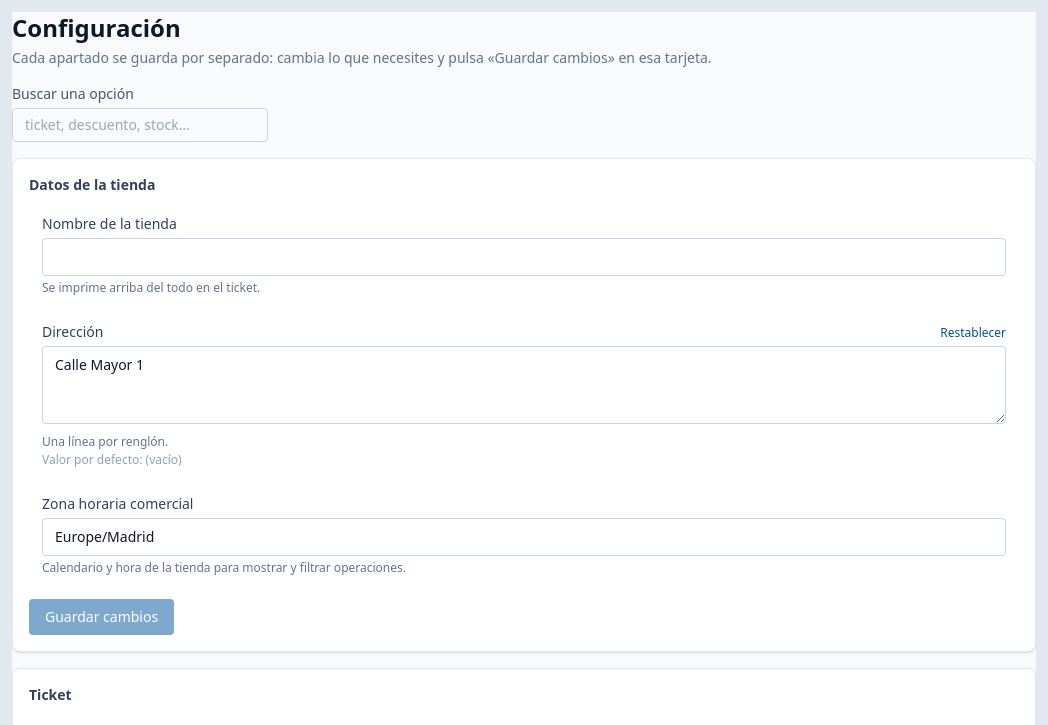
Test: SettingsPage — opciones del registro › restores a field to its default value, and only offers it when it differs
The image size is (1048, 725).
Click the button with aria-label "Restablecer Dirección" at (973, 333), box [940, 325, 1006, 341]
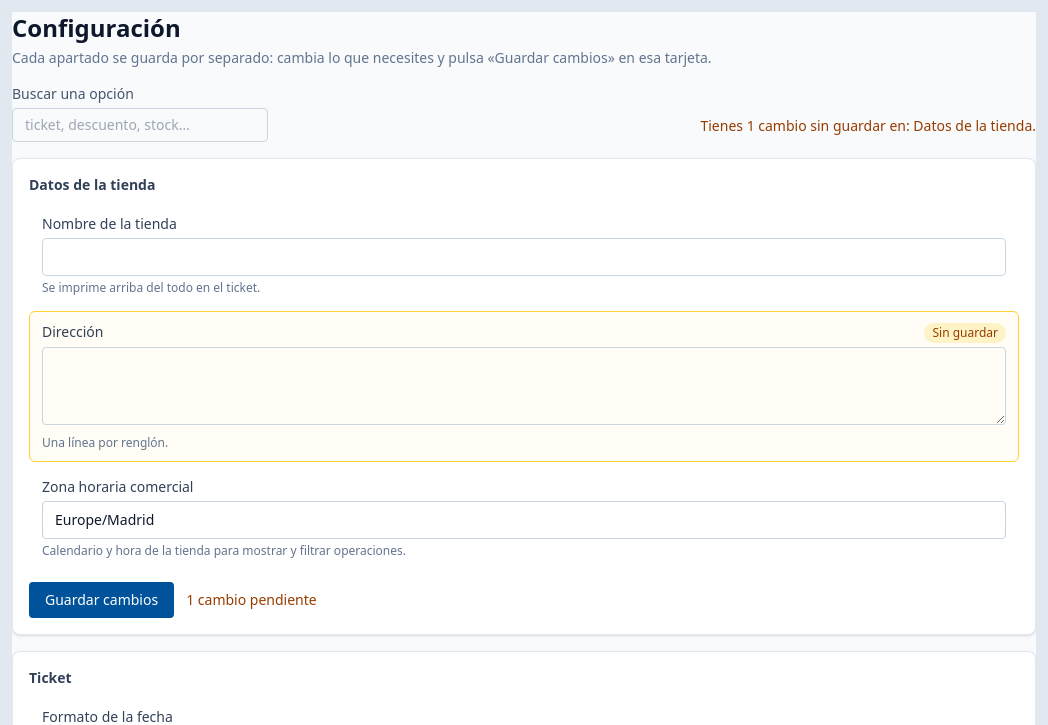
Now the text box labelled "Dirección" is empty, box [42, 347, 1006, 425]
Click the button with aria-label "Guardar cambios de Datos de la tienda" at (102, 600), box [29, 582, 174, 618]
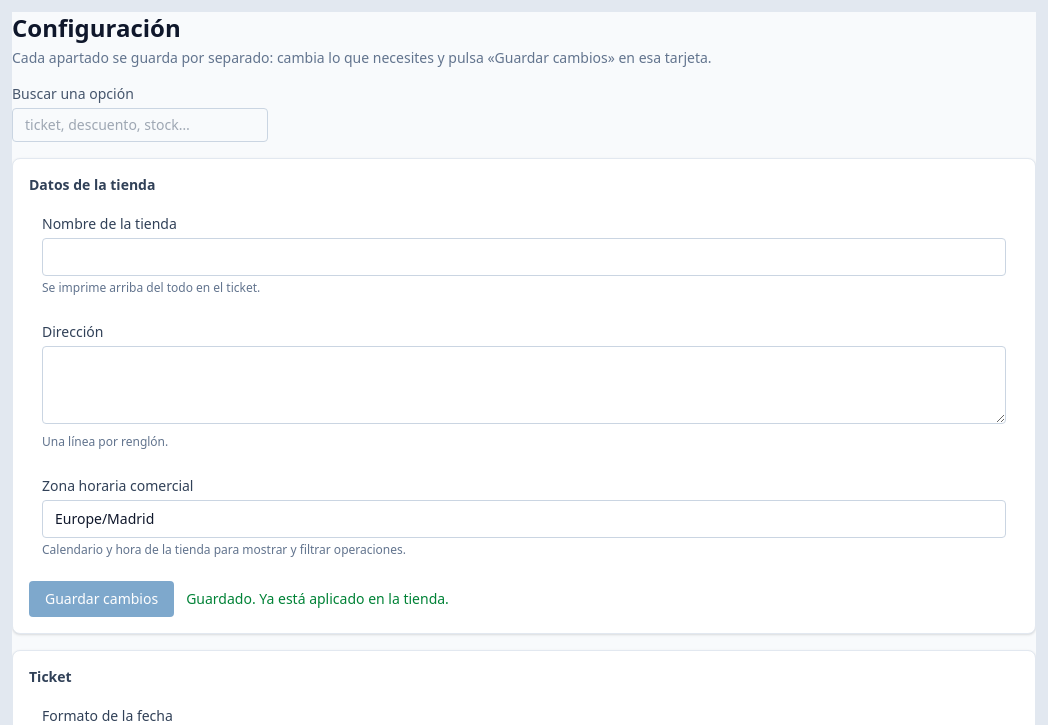
Now the text "Guardado. Ya está aplicado en la tienda." is shown, box [186, 589, 449, 609]
